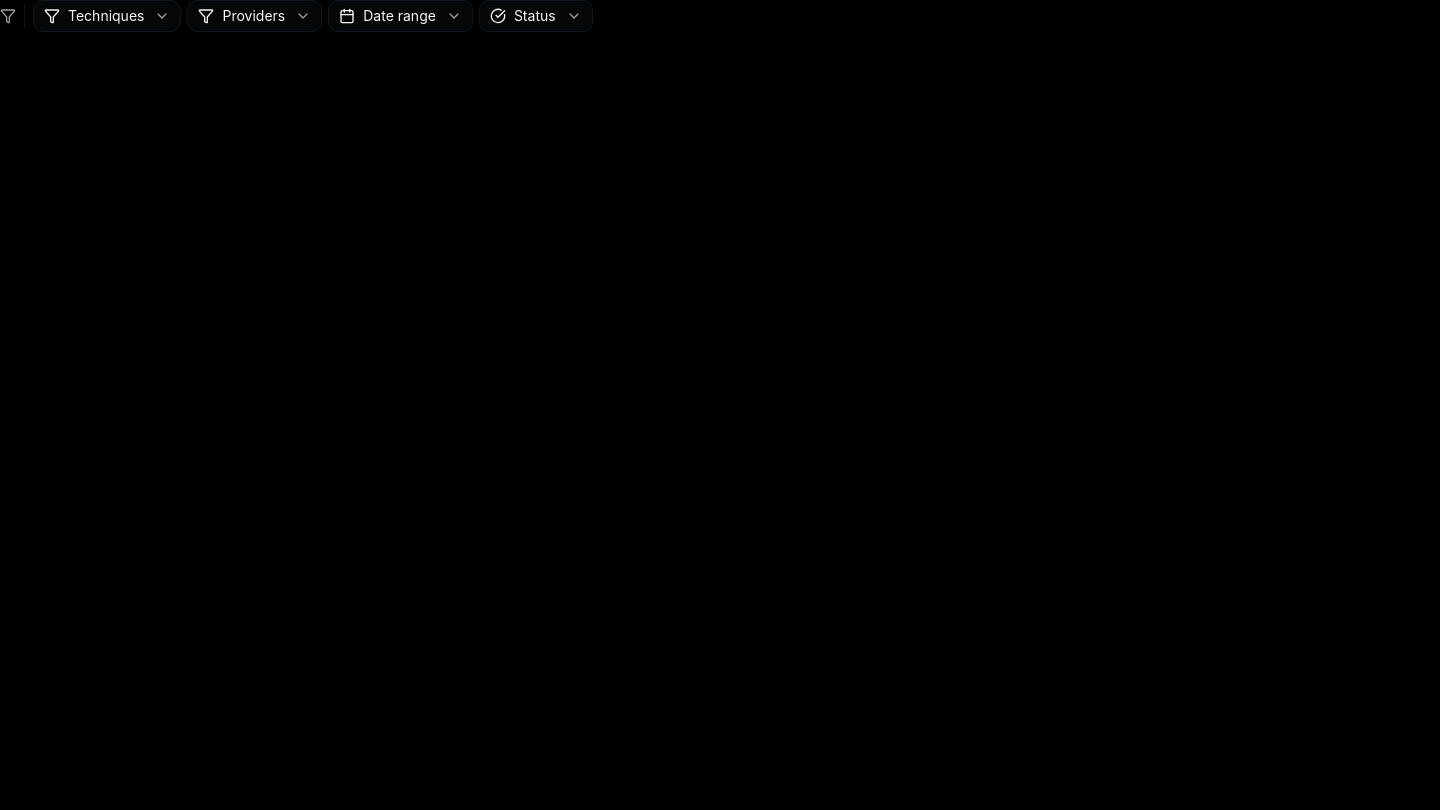
it: FilterBar Component › Status Filter › opens status filter popover on click
This screenshot has width=1440, height=810.
Click the button with aria-label "Filter by status": (536, 16) [479, 0, 593, 32]
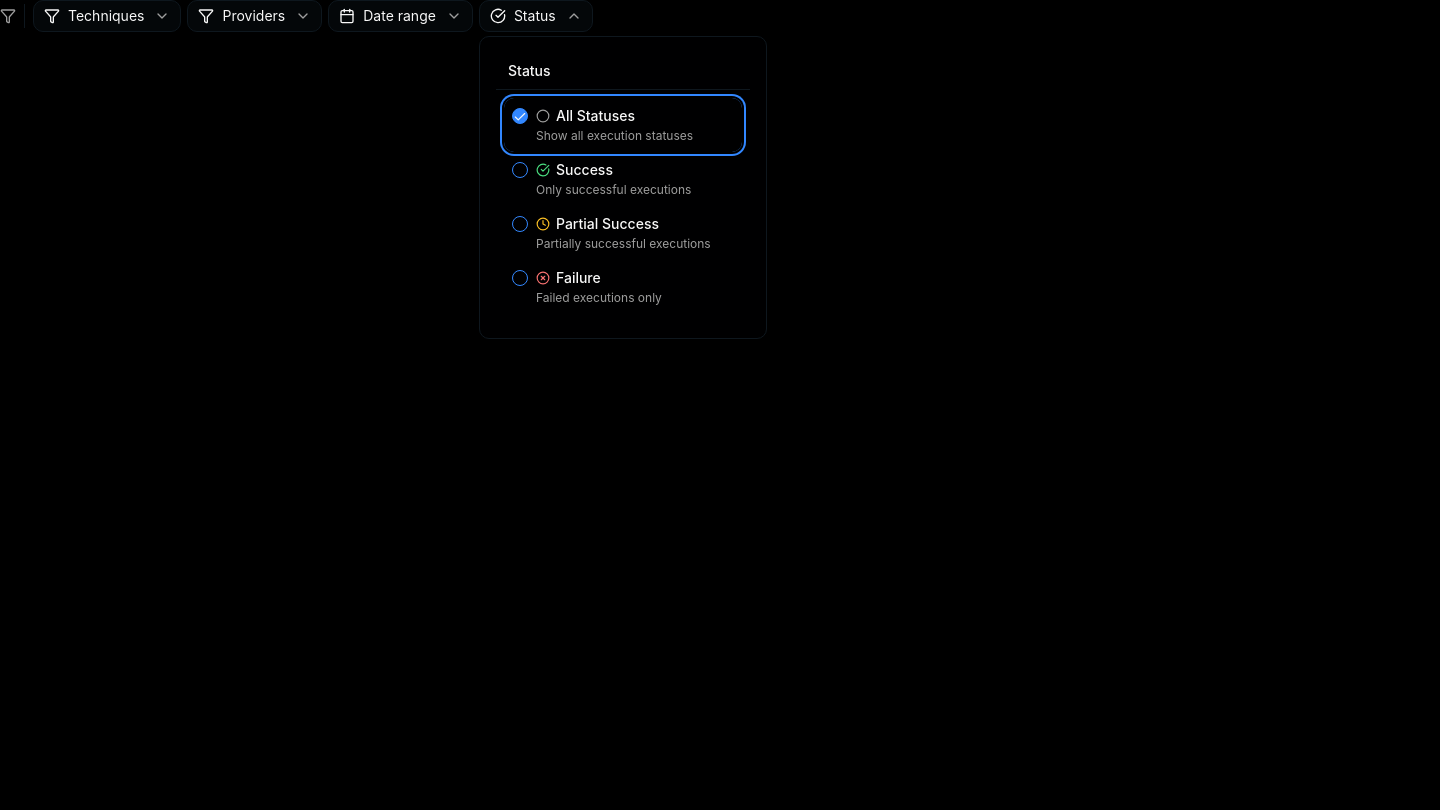
Now the text "All Statuses" is shown, box [556, 106, 635, 126]
Now the text "Success" is shown, box [556, 160, 613, 180]
Now the text "Failure" is shown, box [556, 268, 601, 288]
